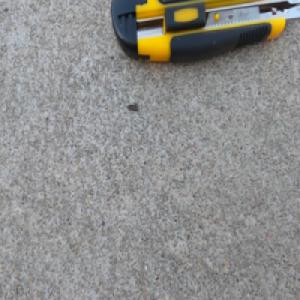Cutter: (109, 0, 300, 65)
